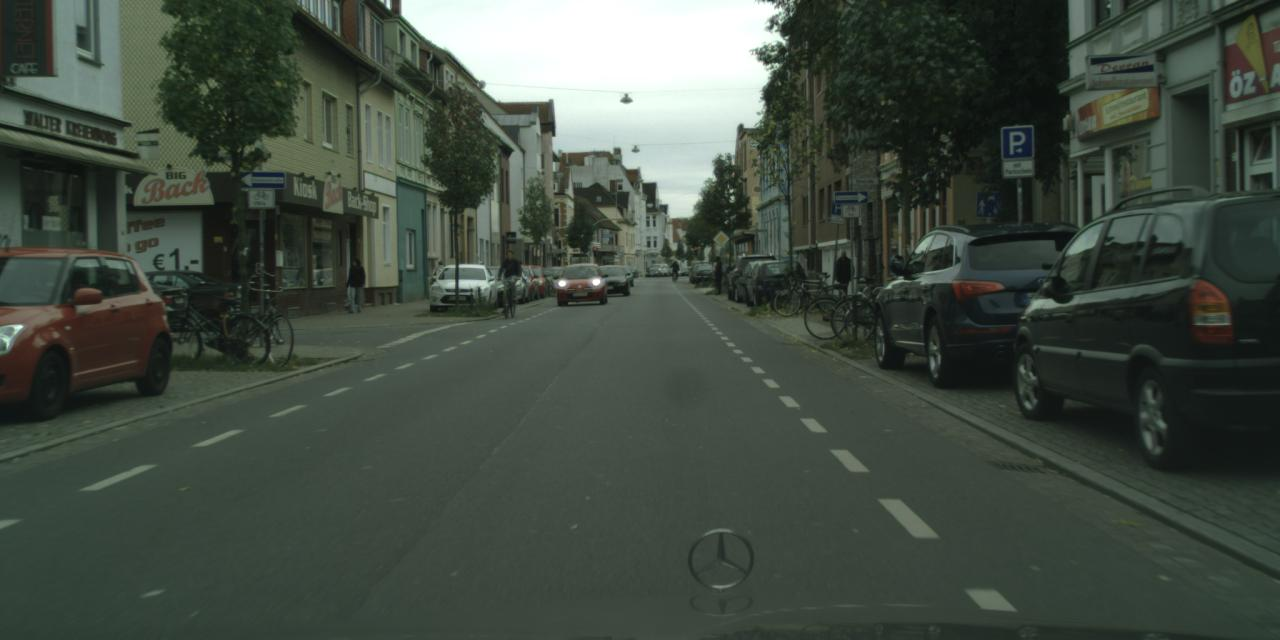ped: (497, 250, 520, 306), (344, 257, 366, 312), (833, 250, 855, 304), (431, 260, 447, 301), (710, 256, 726, 294), (671, 260, 678, 278)
